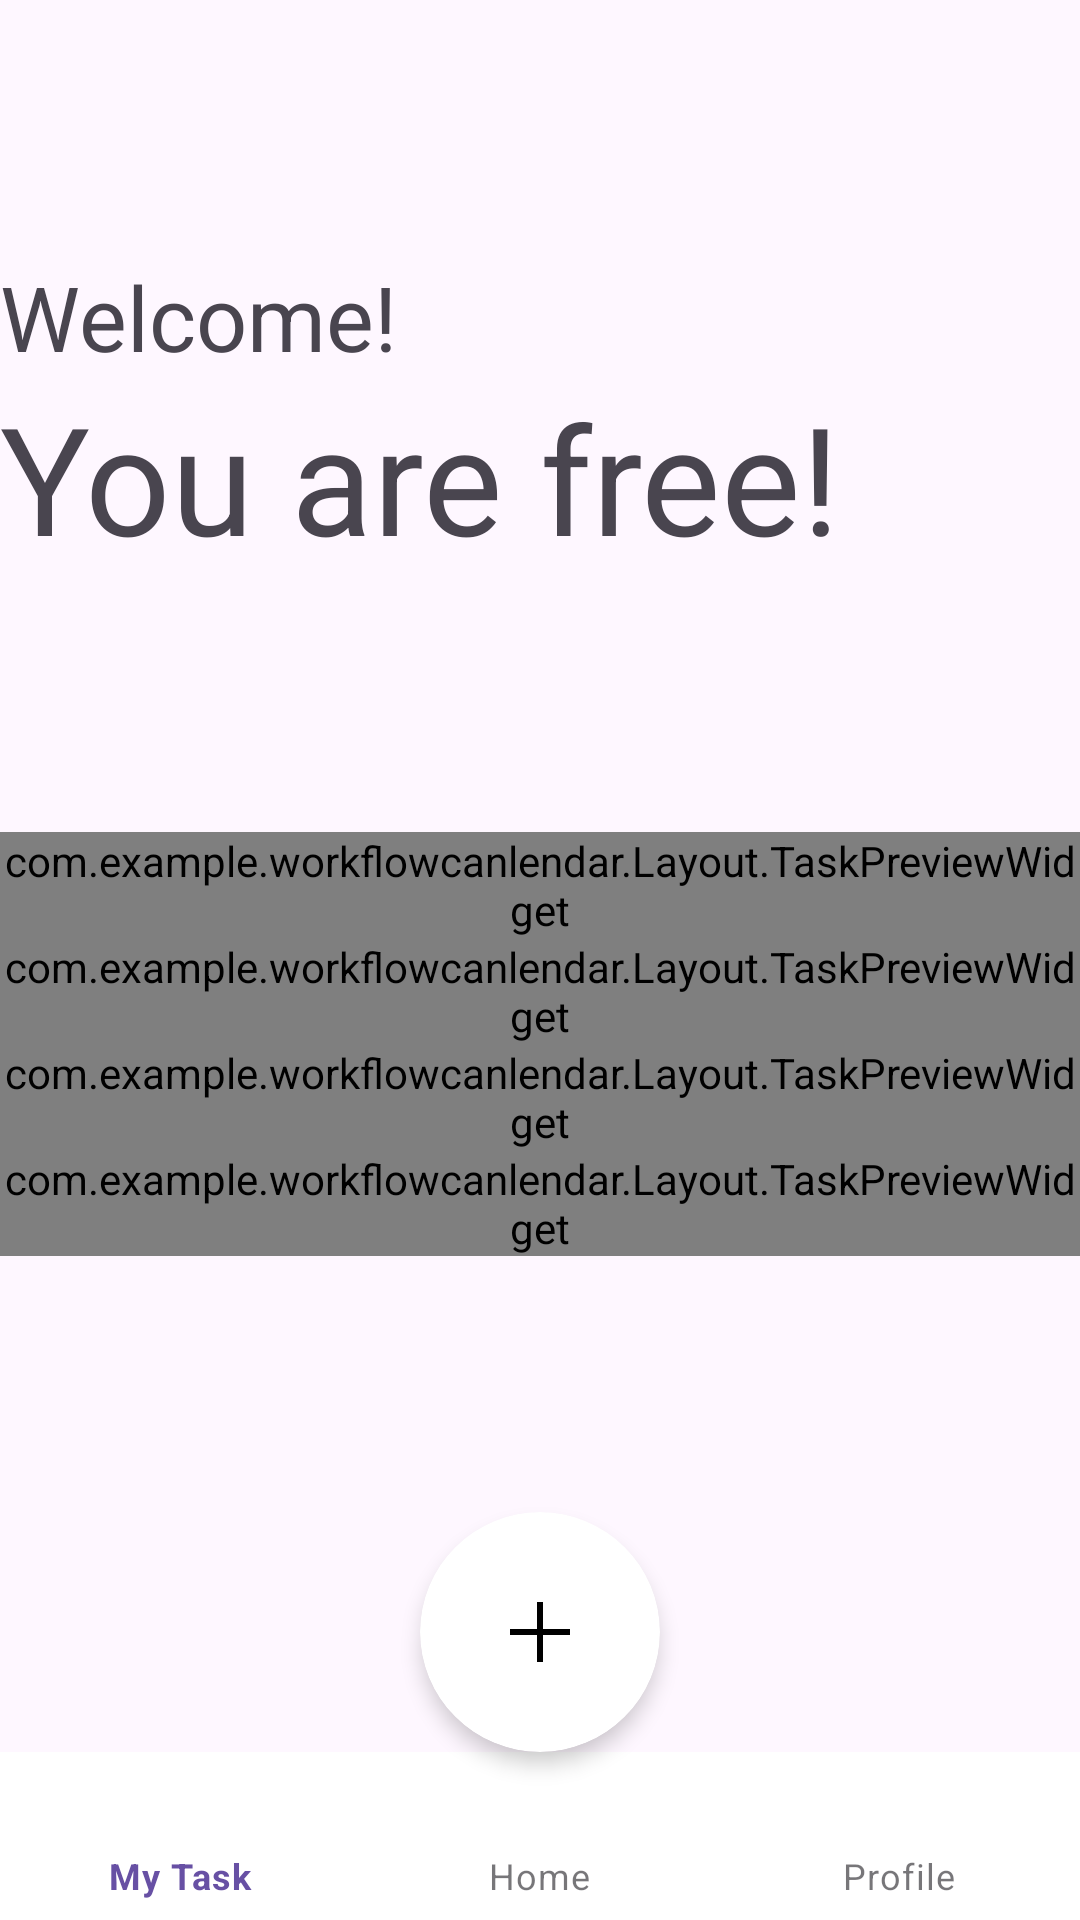

Named icons in this screenshot (1080*1920) and their centers, point (x, y):
add task: point (540, 1632)
